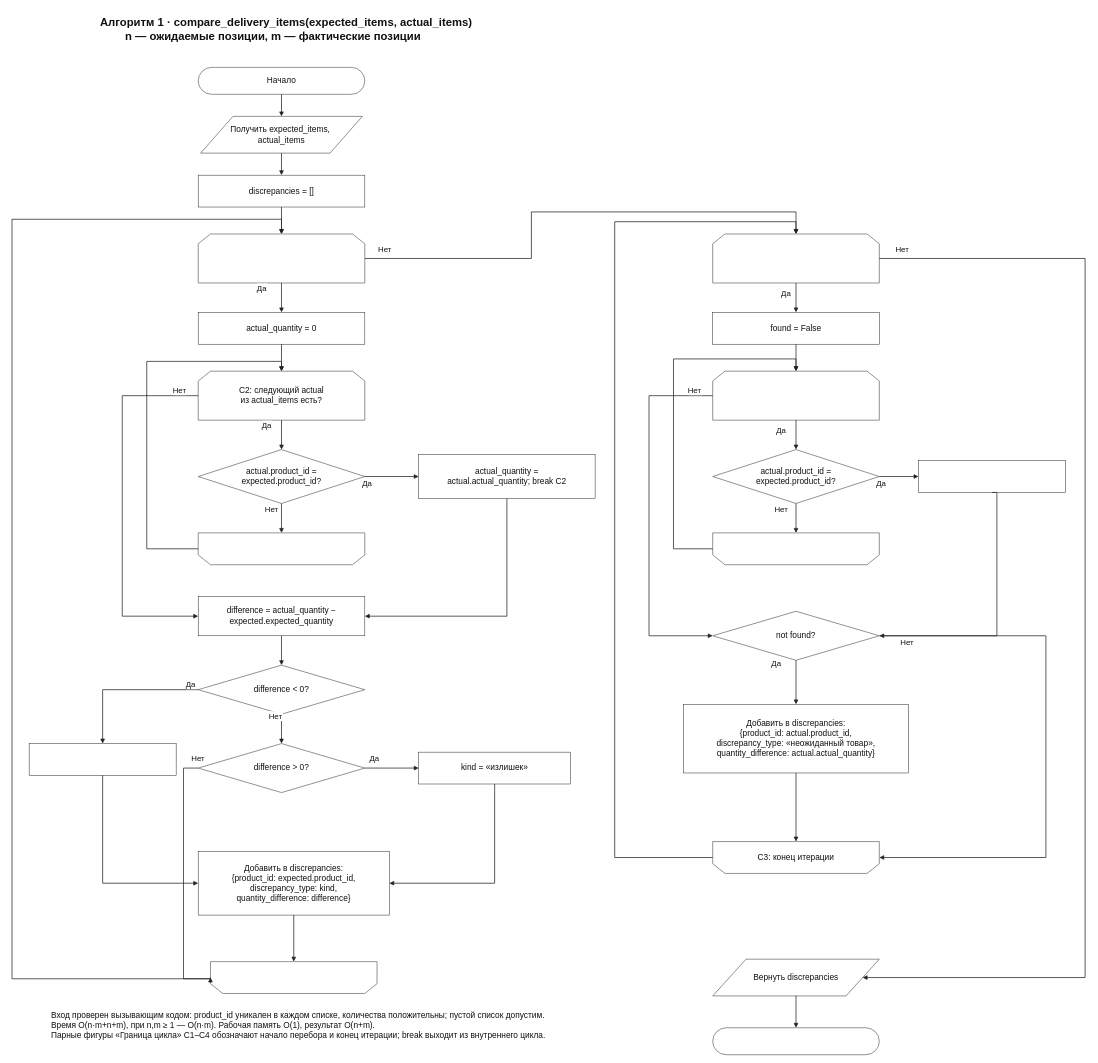
This 1098x1063 diagram has some shape labels left out. Each missing label, with the box of its shape:
C1: конец итерации: (210, 961, 377, 993)
C1: следующий expected из expected_items есть?: (198, 233, 365, 283)
C2: конец итерации: (198, 532, 365, 565)
C3: следующий actual из actual_items есть?: (712, 233, 879, 283)
C4: конец итерации: (712, 532, 879, 565)
C4: следующий expected из expected_items есть?: (712, 371, 879, 420)
found = True; break C4: (918, 460, 1066, 492)
kind = «недостача»: (29, 743, 176, 775)
Конец: (712, 1027, 879, 1055)
